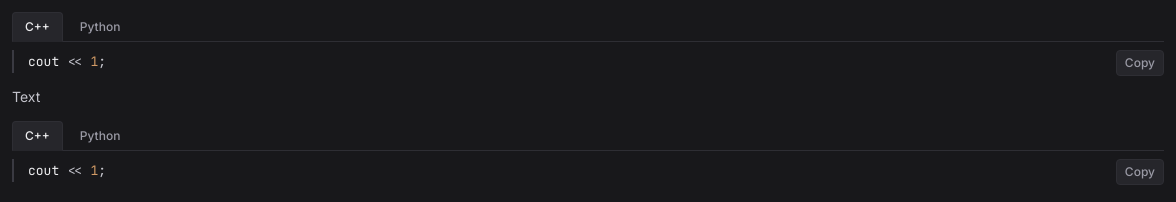
Test case: Markdown code tabs › switches every tabbed block when one tab is picked, and remembers it
The width and height of the screenshot is (1176, 202).
Click the 1st tab "Python" at x=100, y=27, box [67, 12, 133, 42]
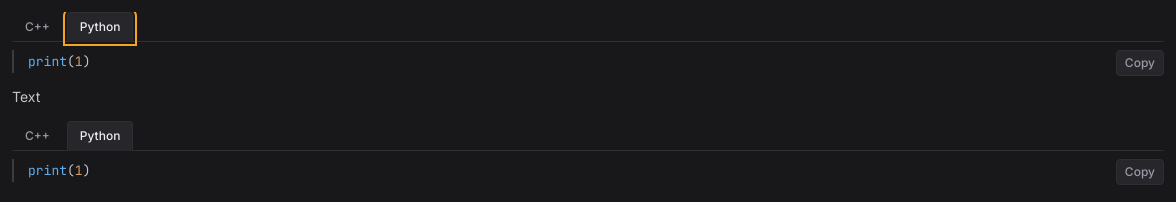
Expected: the 1st panel "print(1) Copy" is shown, [12, 50, 1164, 73]
Expected: the 2nd panel "print(1) Copy" is shown, [12, 159, 1164, 182]
